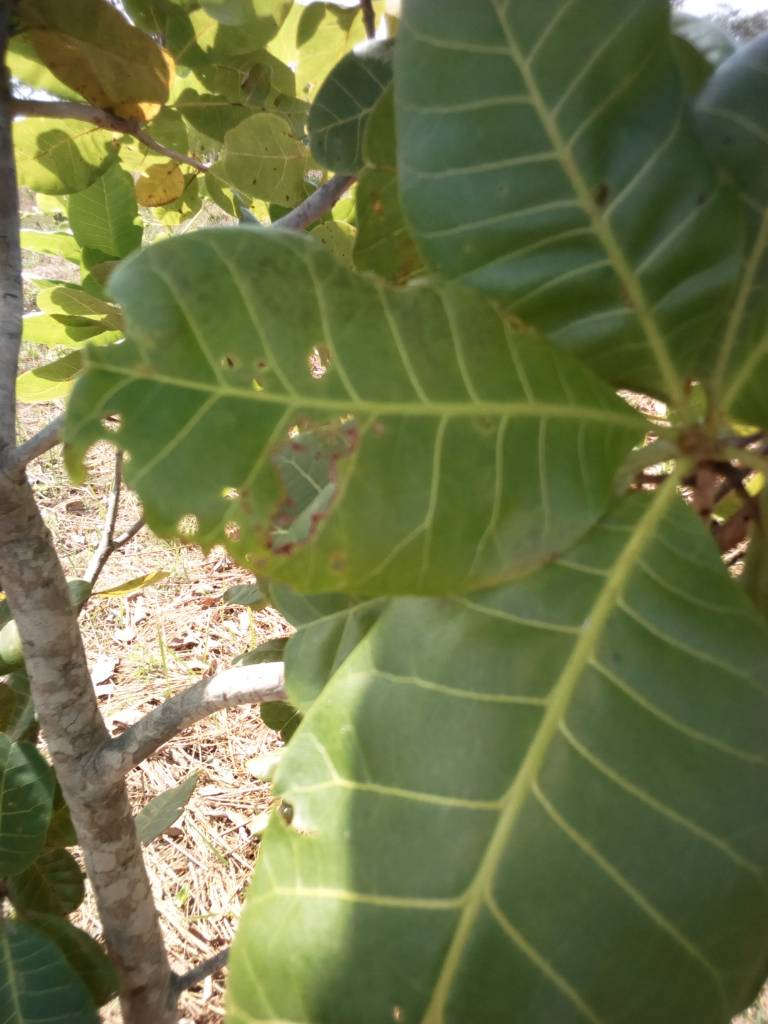Helopeltis anacardii: (74, 222, 633, 599)
